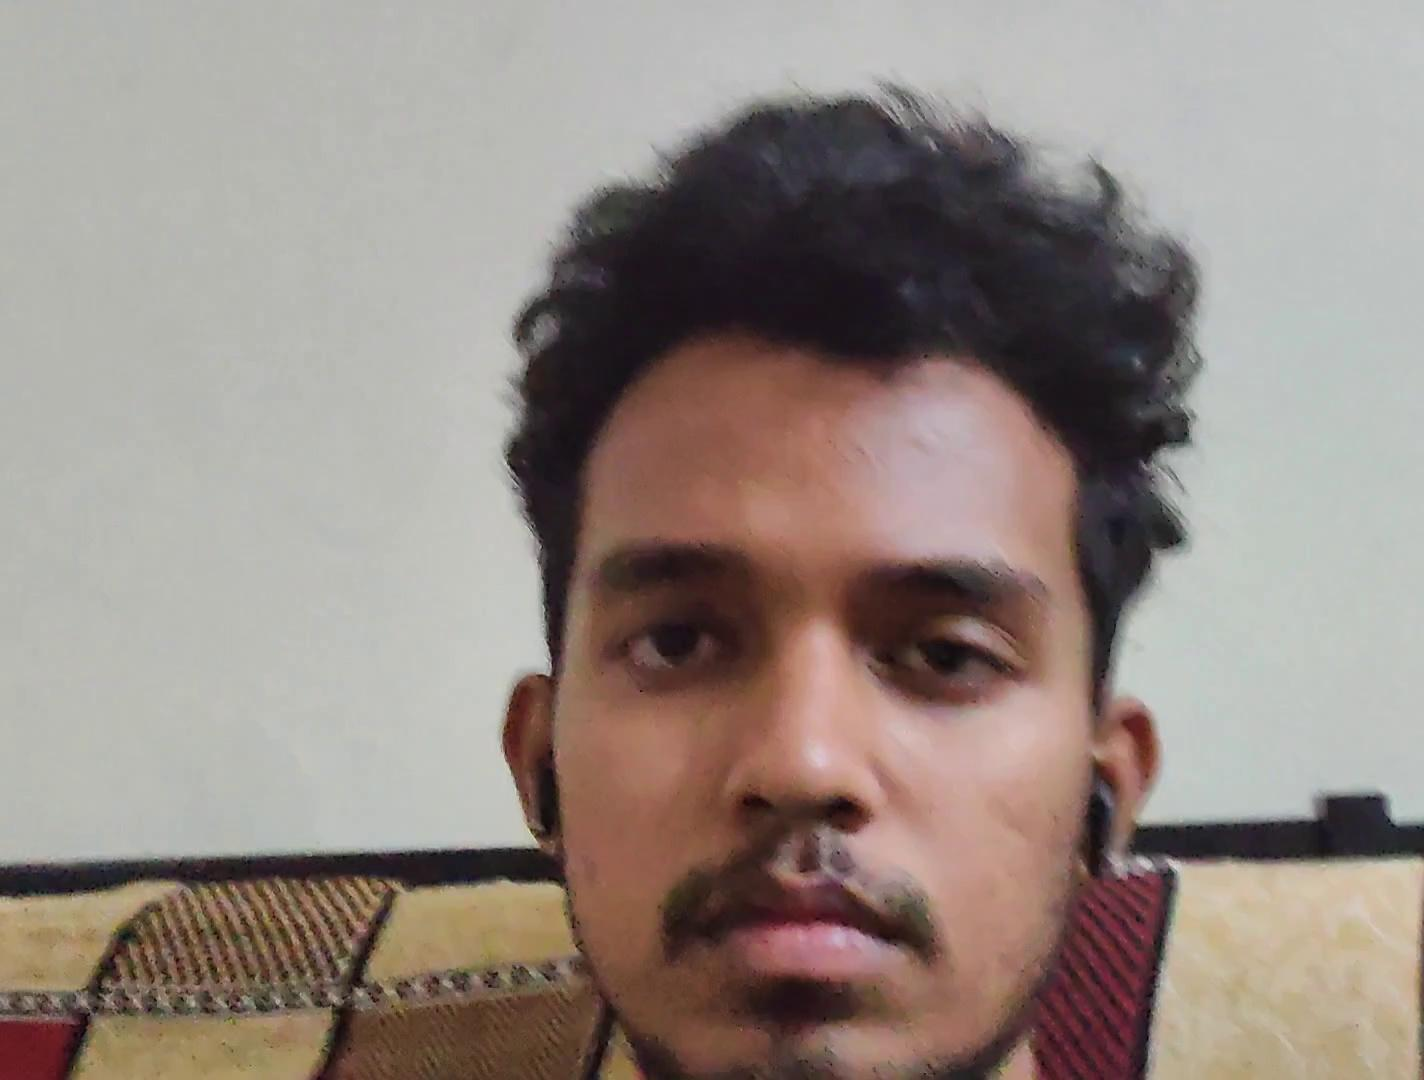face: (550, 345, 1097, 1077)
